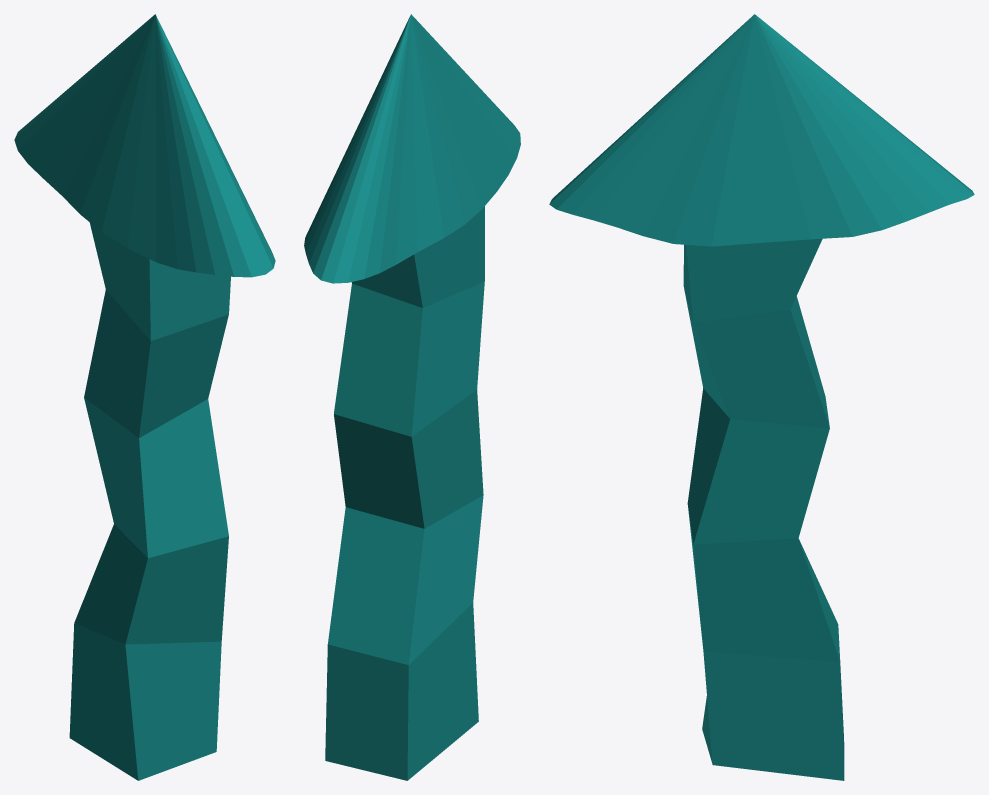
The model's file is Arrow.fbx.
3 renders of one model, left to right at view 1: azimuth 30°, elevation 25°; view 2: azimuth 150°, elevation 25°; view 3: azimuth 270°, elevation 25°, orthographic. The views are drawn at different scales.
Parts seen in each view (by area): view 1: Cube, Cone; view 2: Cube, Cone; view 3: Cube, Cone.
Part boxes in pixels (<box>): Cube: <box>69,222,230,780</box>; Cone: <box>14,14,275,277</box>; Cube: <box>325,206,484,780</box>; Cone: <box>304,14,520,283</box>; Cube: <box>683,238,844,780</box>; Cone: <box>549,14,974,246</box>.
Bounding box in the file's own units: 169 × 1034 × 535.
